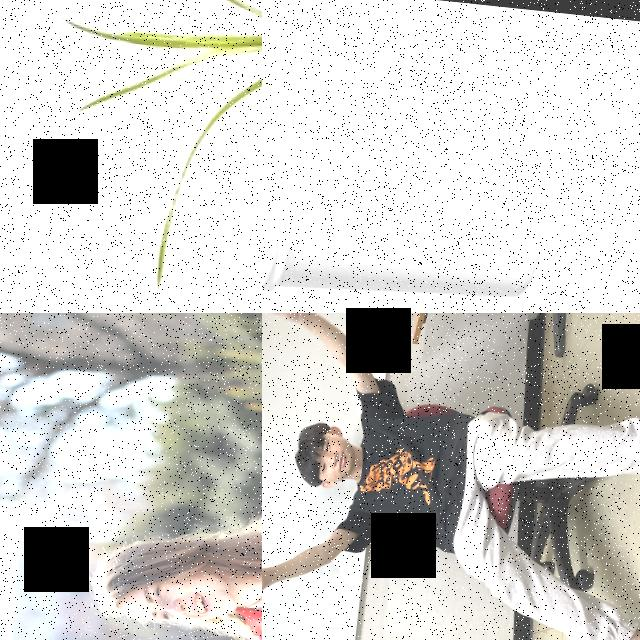cup: (262, 163, 542, 313)
